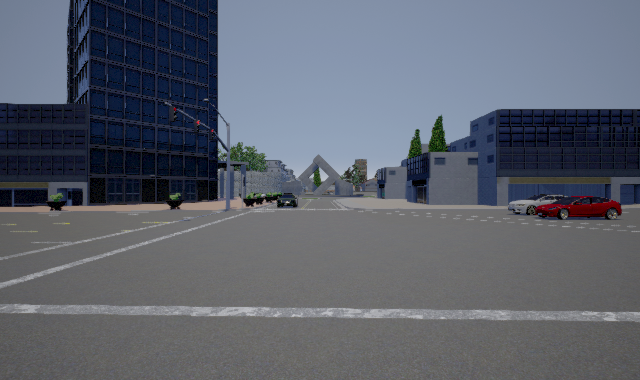traffic_light: (170, 106, 178, 122), (194, 120, 201, 133), (209, 128, 215, 140), (243, 175, 245, 188)
vehicle: (538, 195, 622, 220), (505, 192, 560, 219), (277, 193, 298, 208)
